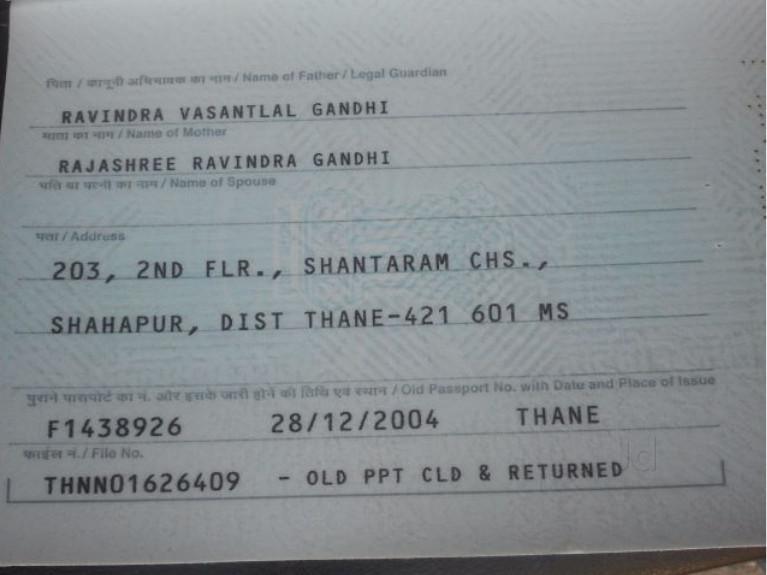File_no: (30, 466, 255, 504)
address: (19, 249, 630, 346)
father_name: (51, 89, 398, 130)
mother_name: (55, 142, 394, 181)
old_passport_details: (31, 401, 615, 449)
